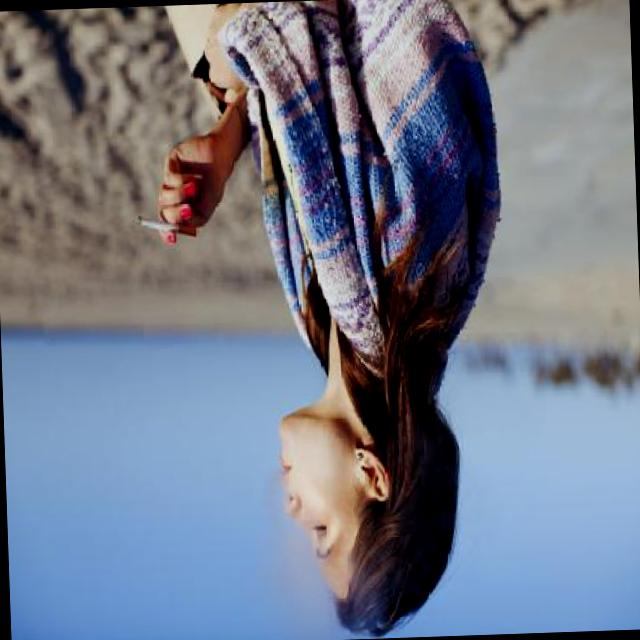smoke: (128, 202, 206, 246)
